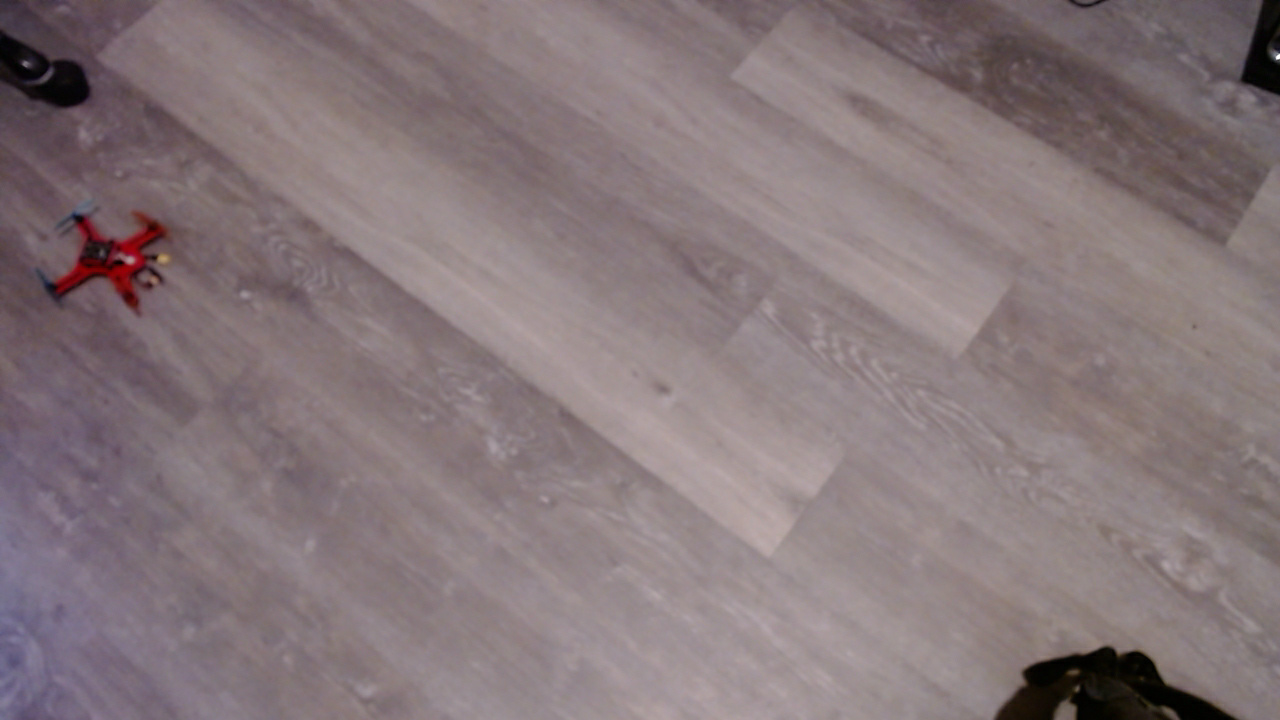crazyflie: (39, 191, 183, 321)
